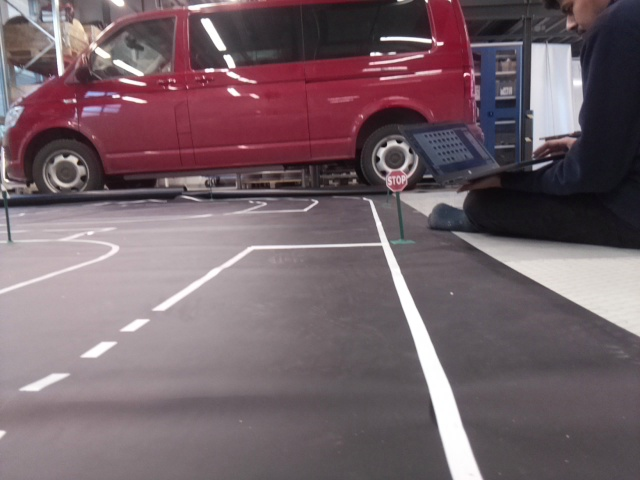Stop: (386, 170, 407, 190)
